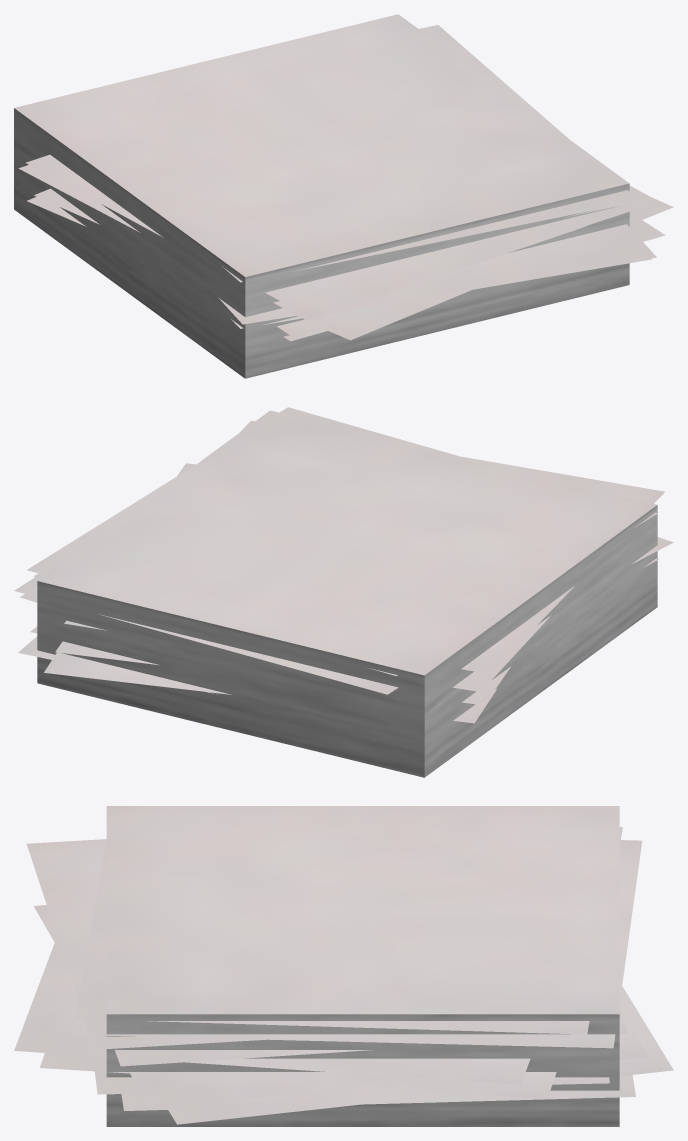
The model's file is Papers_01.fbx.
3 views of the same model, one above another, from view 1: azimuth 30°, elevation 25°; view 2: azimuth 150°, elevation 25°; view 3: azimuth 270°, elevation 25° (orthographic). The views are drawn at different scales.
Visible parts, largest first — view 1: Papers_01; view 2: Papers_01; view 3: Papers_01.
Boxes of the visible parts, left/top/right/bottom form: Papers_01: left=14, top=14, right=673, bottom=378; Papers_01: left=14, top=407, right=673, bottom=777; Papers_01: left=14, top=806, right=673, bottom=1126.
Size of the model in its own units: 76.84 by 15.52 by 82.37.
